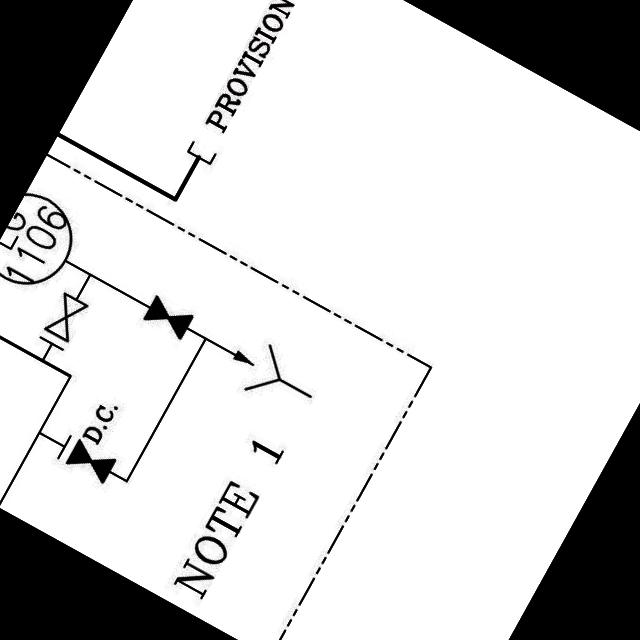GV: (40, 284, 92, 346)
